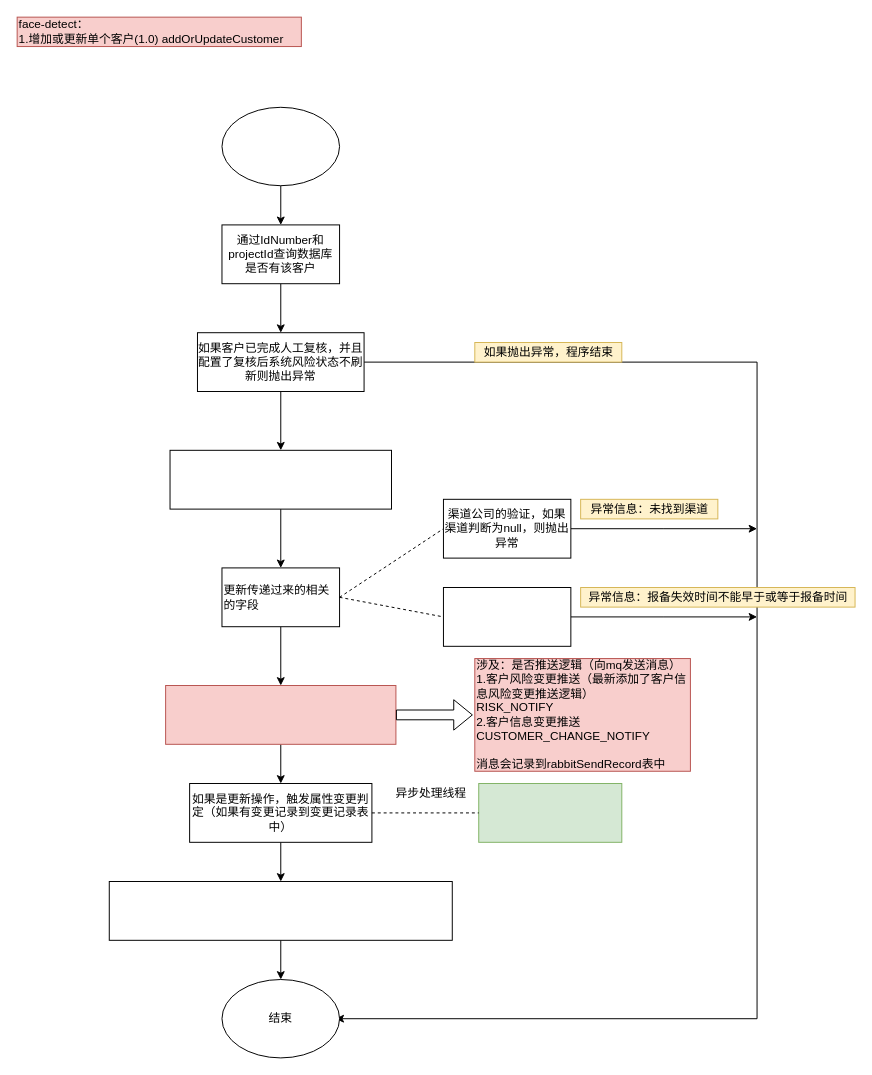
Image size: 872x1075. Some labels were removed from this diagram. The centre of each missing label's shape, as x and y in pixels:
"如果customer不存在就插入，如果存在就更新 faceDetectCustomerRepo.save(customer)" belongs at pixel 280 714.
"如果客户存在，记录当前更新之前的customer" belongs at pixel 280 479.
"如果是更新客户操作，并且有属性的变化则记录到FaceDetectCustomerInfoModifiedRecord数据库中" belongs at pixel 280 910.
"如果有报备失效时间： 报备失效时间的处理" belongs at pixel 506 616.
"开始" belongs at pixel 280 146.
"查询客户最新刷证记录并处理客户刷新" belongs at pixel 550 812.
